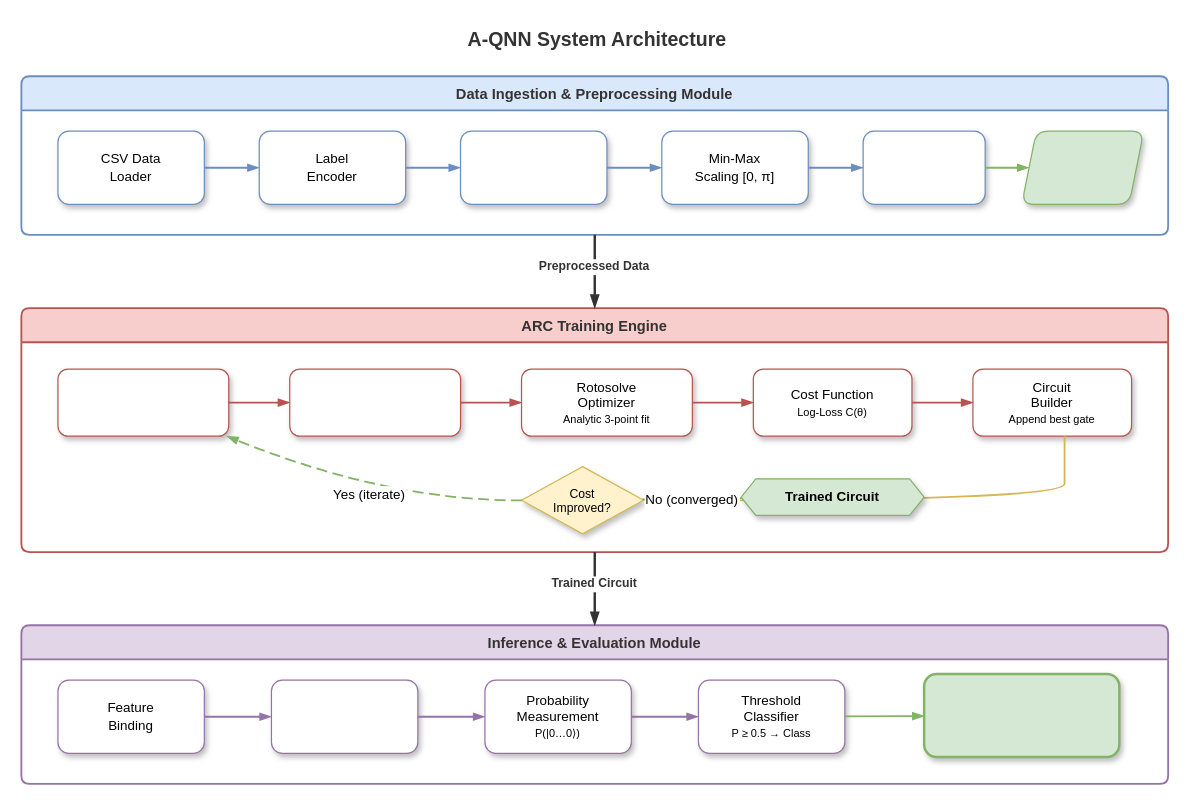
Image size: 1191x805. Some labels were removed from this diagram. The centre of each missing label's shape, as x and y in pixels:
"Bias Append" goes at (924,169).
"Candidate Evaluation θ = 0, +π/2, −π/2" goes at (376,404).
"Feature Matrix X (N × d+1)" goes at (1083,169).
"Gate Pool 6 types × n_qubits" goes at (144,404).
"Metrics Accuracy · F1 AUC-ROC · Log-Loss" goes at (1022,716).
"PCA Reduction" goes at (534,169).
"Statevector Simulation" goes at (345,718).
